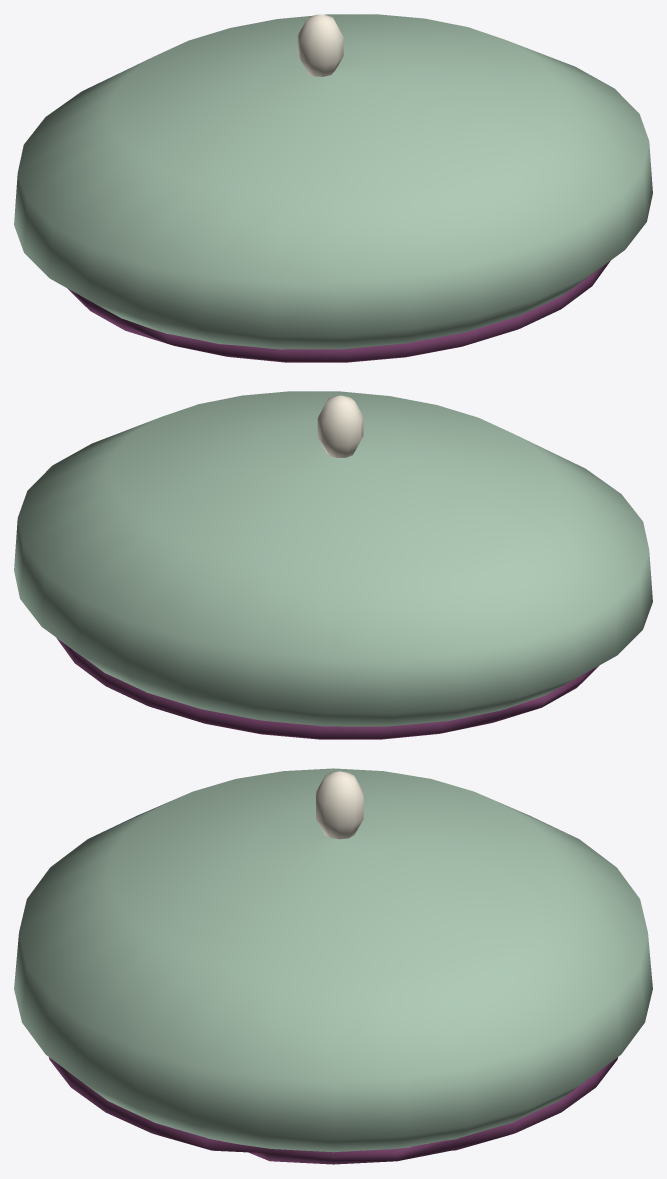
File: beret.glb
The picture shows the model from 3 angles, top to bottom: view 1: azimuth 30°, elevation 25°; view 2: azimuth 150°, elevation 25°; view 3: azimuth 270°, elevation 25°; orthographic projection. The views are drawn at different scales.
Visible parts, largest first — view 1: Sage felt beret, Plum beret piping, Cream beret button; view 2: Sage felt beret, Plum beret piping, Cream beret button; view 3: Sage felt beret, Plum beret piping, Cream beret button.
Boxes of the visible parts, x1,y1,x2,y2 form: Sage felt beret: (14, 14, 652, 349); Plum beret piping: (67, 261, 610, 362); Cream beret button: (297, 14, 343, 76); Sage felt beret: (14, 391, 652, 726); Plum beret piping: (56, 638, 599, 739); Cream beret button: (317, 395, 363, 457); Sage felt beret: (14, 768, 652, 1152); Plum beret piping: (49, 1057, 617, 1164); Cream beret button: (316, 771, 363, 839).
Size of the model in its own units: 0.57 by 0.229 by 0.51.
